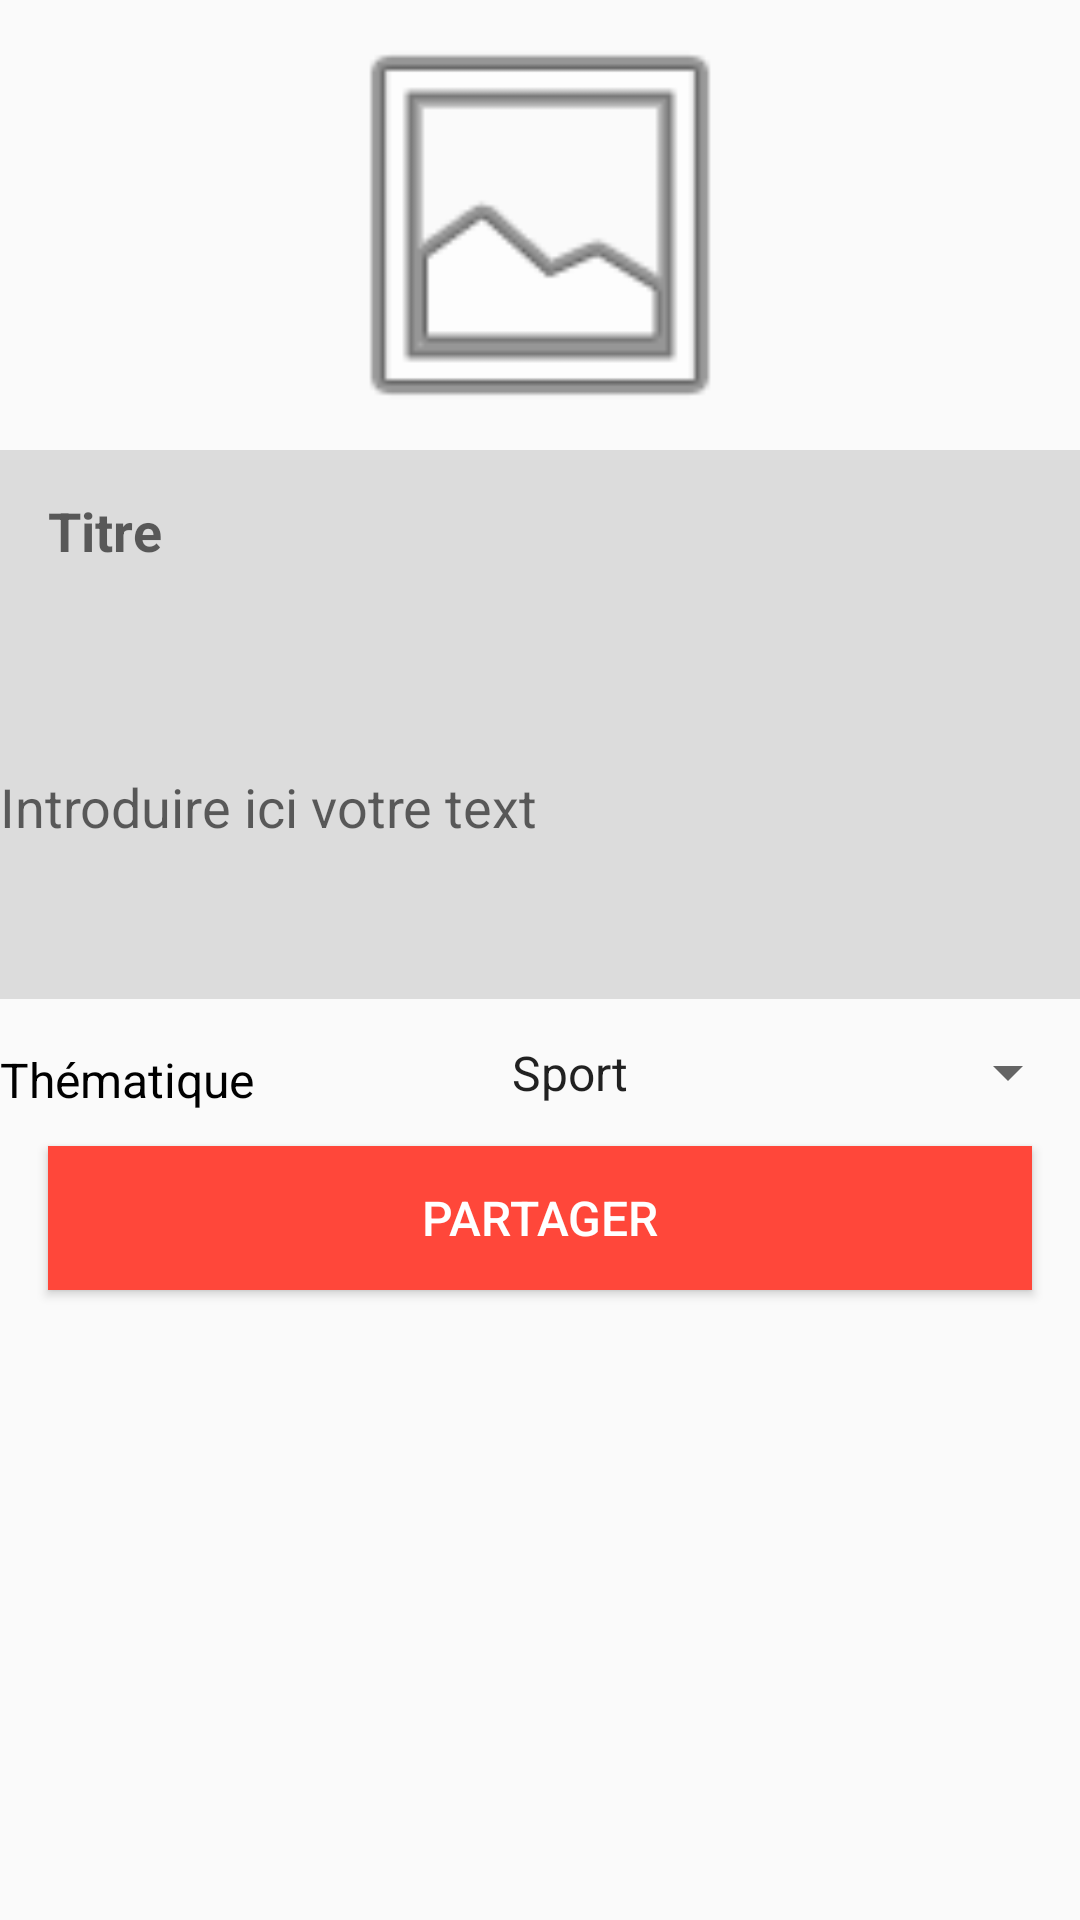

Icon bounding boxes for this 1080px×1920px phone screenshot, format (x1, y1, x2, y2):
gallery: (370, 55, 710, 395)
